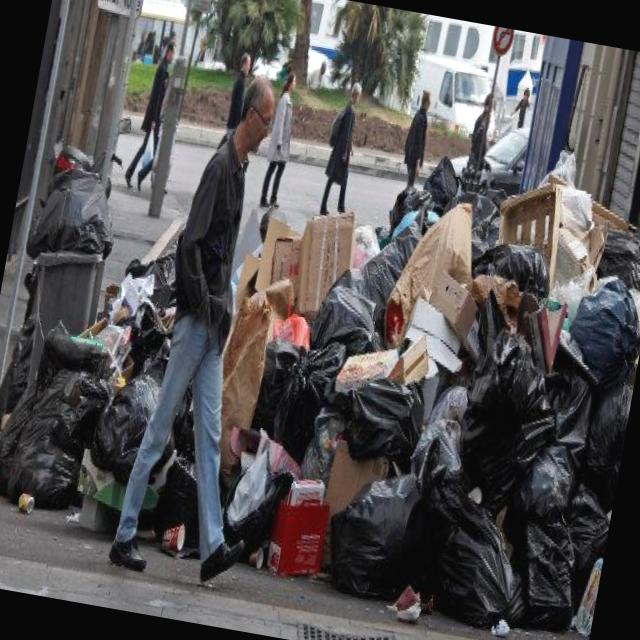garbage: (219, 99, 640, 640)
